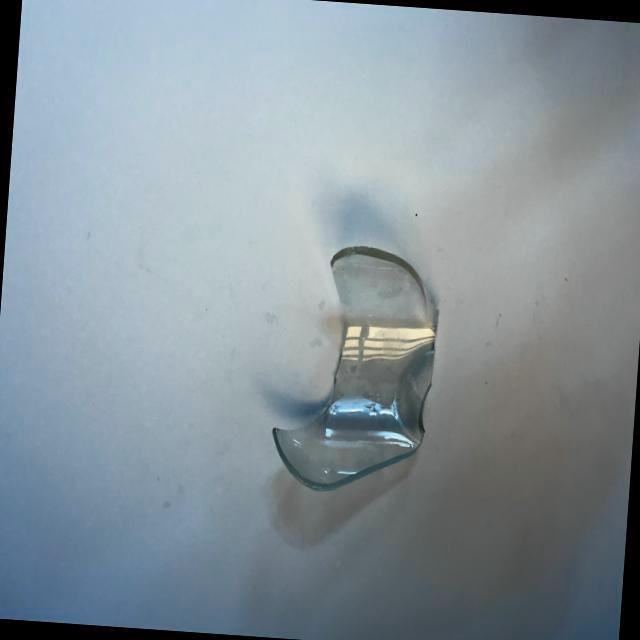glass: (249, 216, 482, 504)
